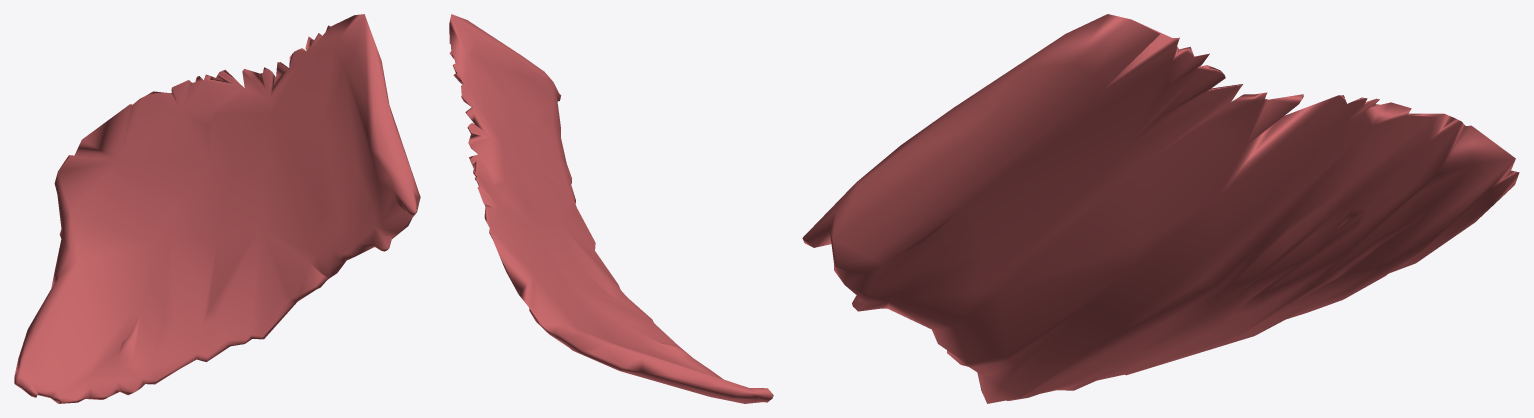
3 views of the same model, side by side, from view 1: azimuth 30°, elevation 25°; view 2: azimuth 150°, elevation 25°; view 3: azimuth 270°, elevation 25° (orthographic). The views are drawn at different scales.
Parts seen in each view (by area): view 1: 左侧降下唇肌; view 2: 左侧降下唇肌; view 3: 左侧降下唇肌.
Boxes of the visible parts, box(x1,y1,x2,y2) form: 左侧降下唇肌: box(14, 14, 420, 403); 左侧降下唇肌: box(449, 14, 773, 403); 左侧降下唇肌: box(802, 14, 1519, 403).
Bounding box in the file's own units: 0.0451 × 0.0402 × 0.0435.
